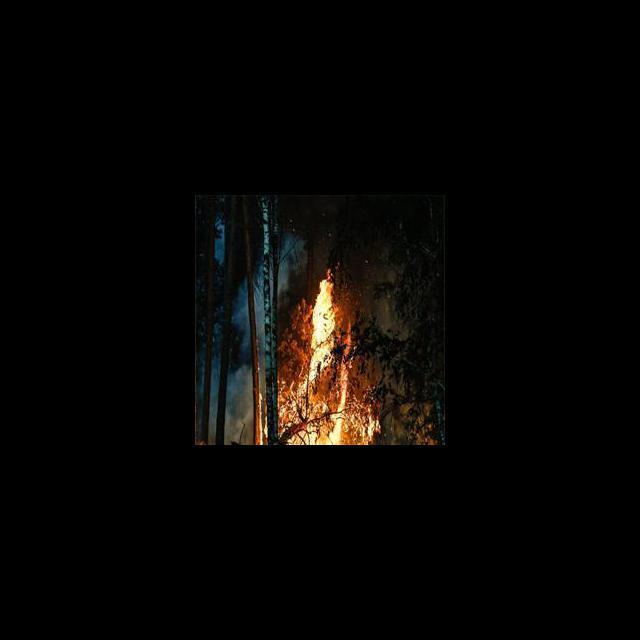Fire: (277, 265, 388, 444)
